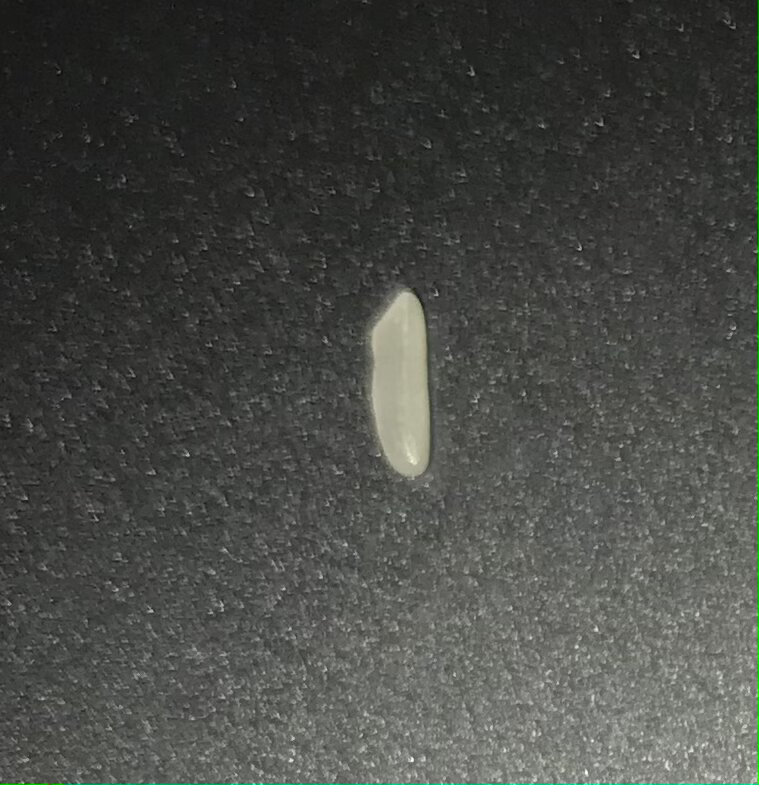Gao Long Lai: (355, 281, 449, 477)
